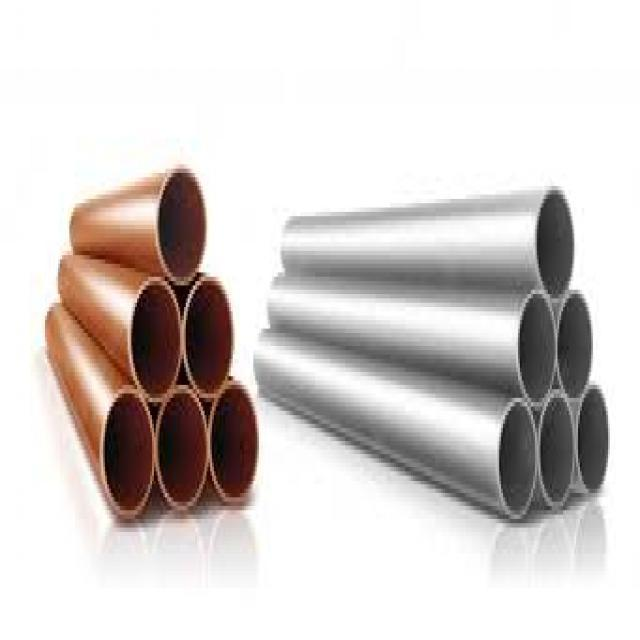pipe: (102, 385, 153, 515), (155, 391, 209, 510), (129, 281, 182, 400), (184, 278, 234, 397), (157, 164, 207, 280), (211, 381, 259, 500), (497, 398, 538, 517), (518, 290, 557, 408), (535, 192, 575, 300), (557, 293, 594, 404), (539, 390, 574, 507), (577, 388, 610, 497)
